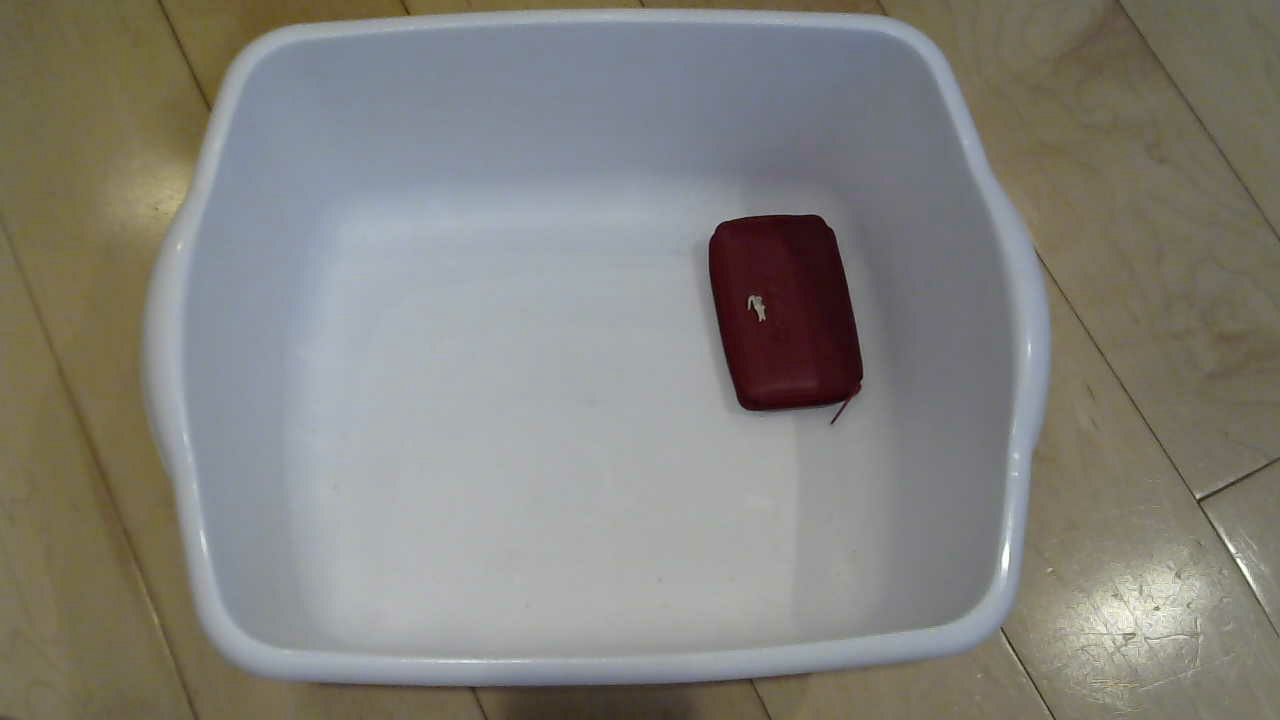wallet: (694, 205, 882, 418)
